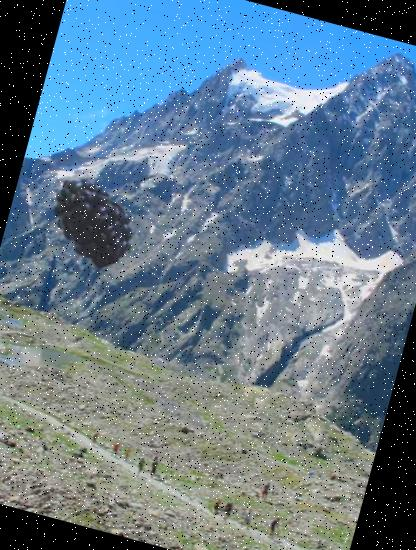Mulberry: (34, 162, 152, 280)
